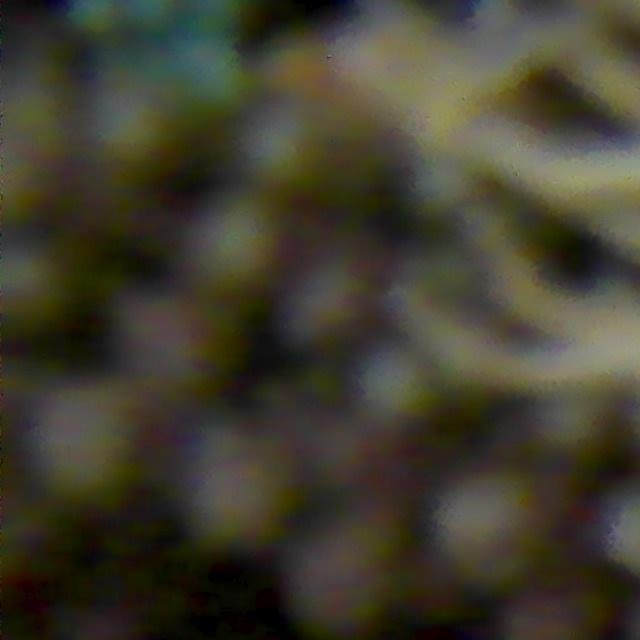SeaGrape: (281, 492, 420, 631), (243, 86, 386, 214), (420, 465, 553, 598), (177, 420, 306, 553), (109, 308, 253, 420), (15, 377, 138, 506), (186, 186, 292, 314), (274, 254, 371, 350), (235, 100, 329, 193), (163, 29, 255, 121), (82, 79, 174, 169), (352, 343, 436, 429), (0, 242, 67, 334)
